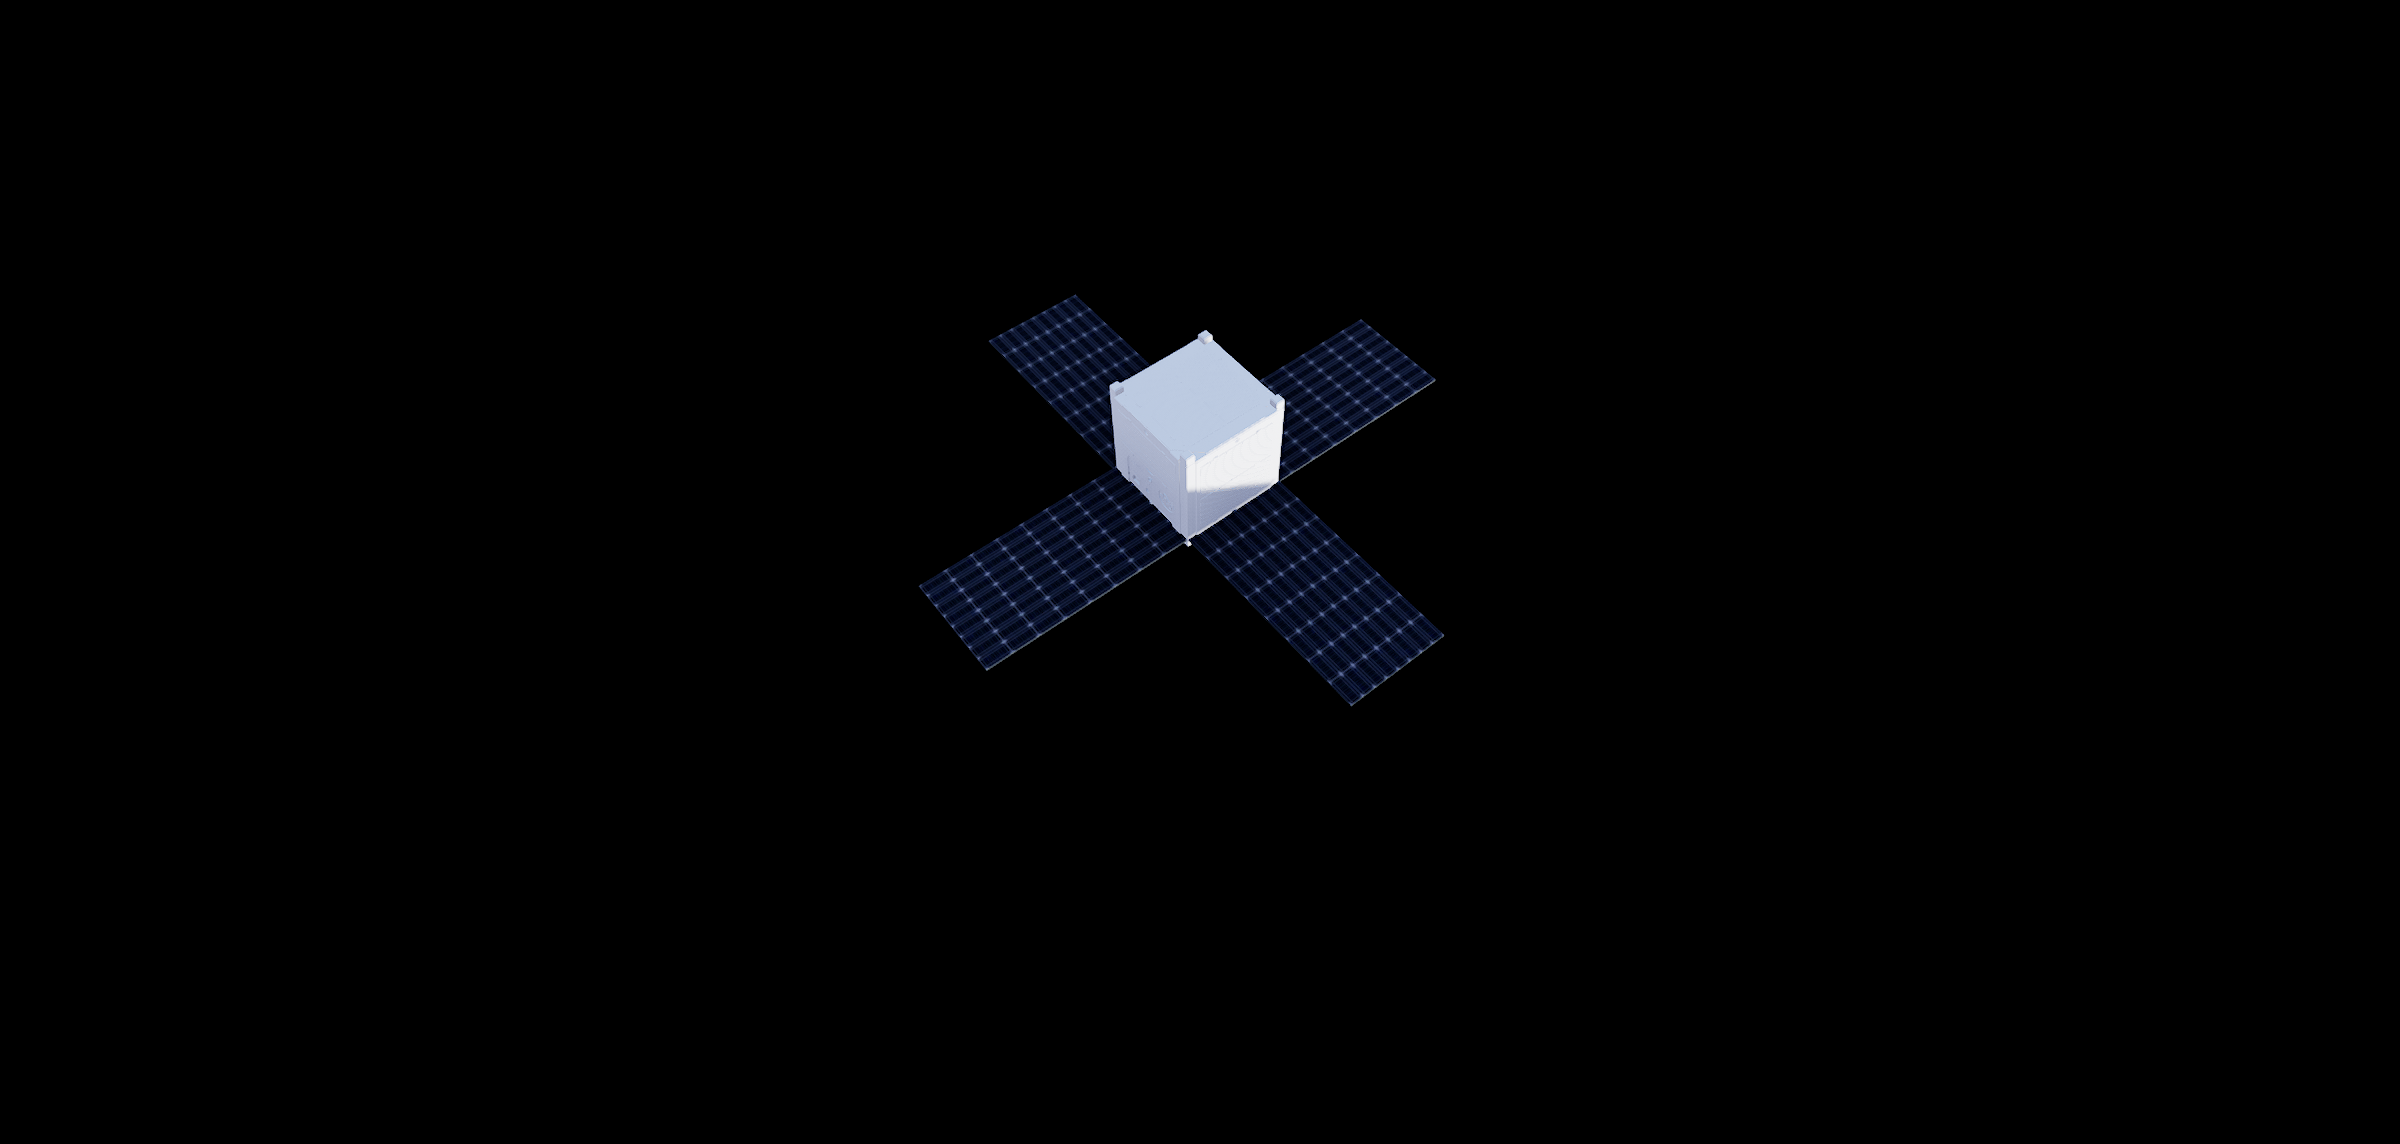satellite: (908, 280, 1497, 732)
